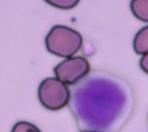L: (68, 69, 136, 131)
